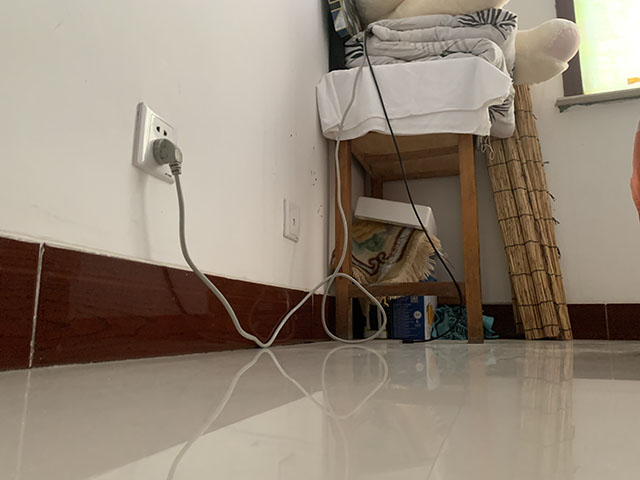table: (330, 129, 489, 346)
wire: (152, 26, 465, 349)
